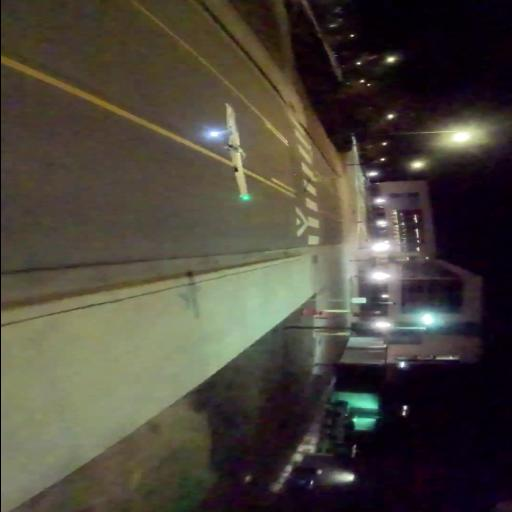uav: (203, 101, 254, 204)
